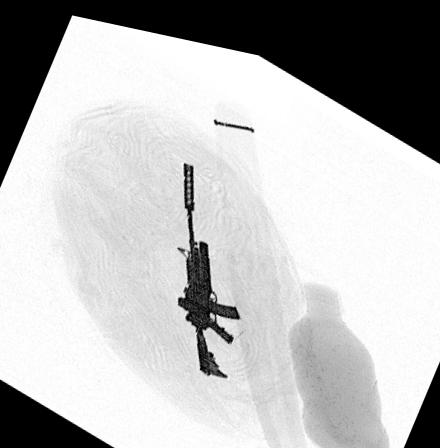Gun: (175, 152, 240, 367)
